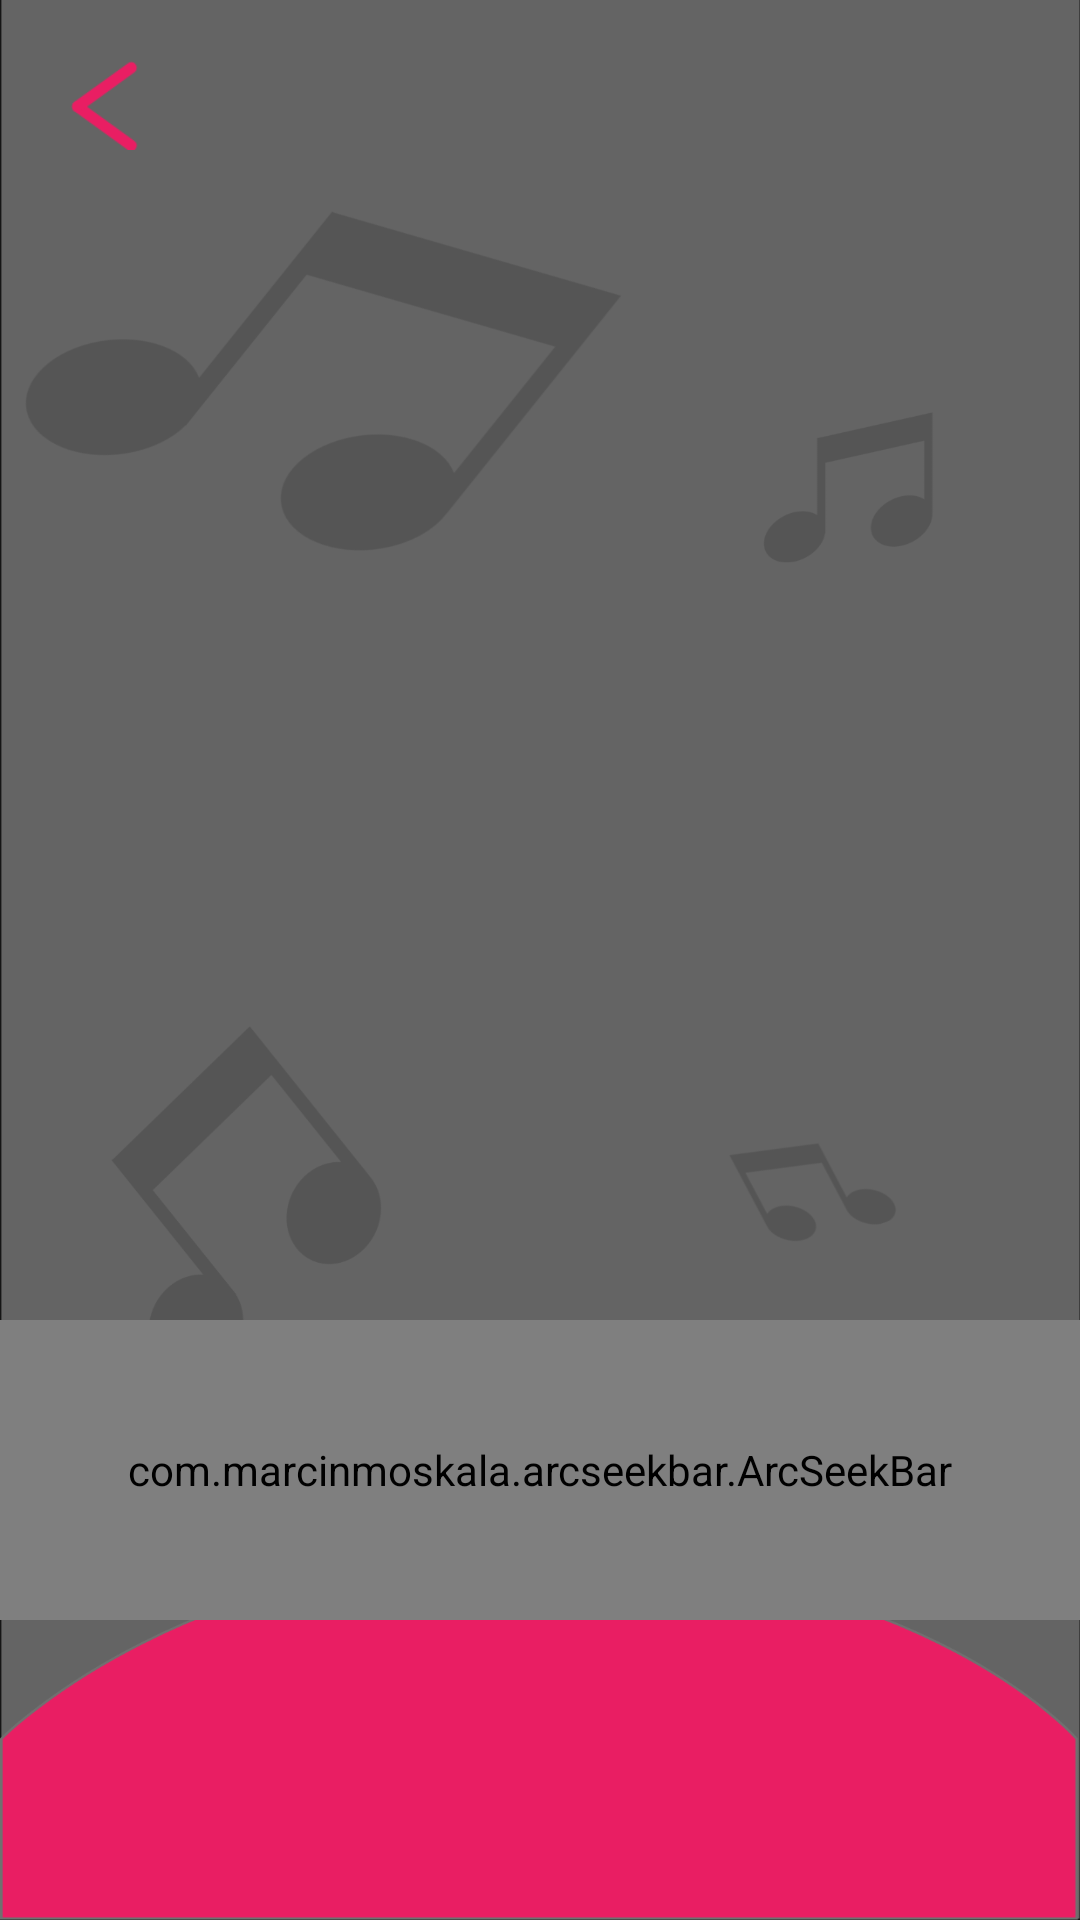

Point at icon controls on the screen. Image size 1080 x 1920, points as point (x, y).
back: point (104, 106)
